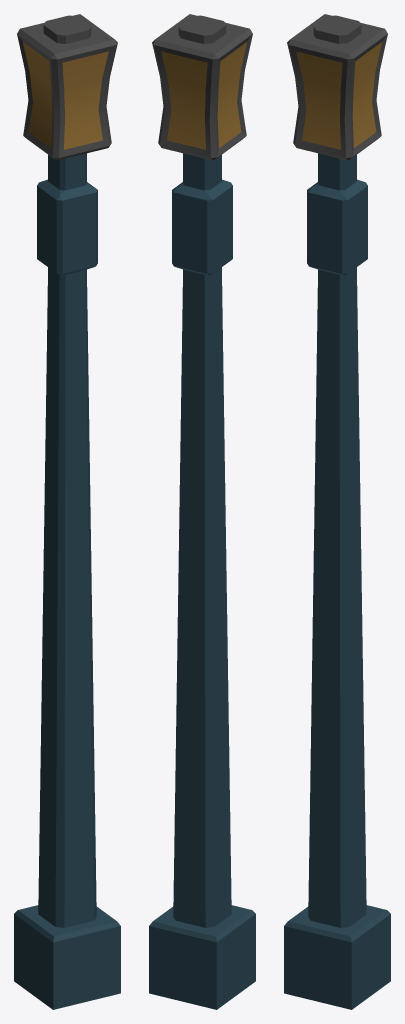
Rendered from streetlight_a006.glb.
The picture shows the model from 3 angles, left to right: view 1: azimuth 30°, elevation 25°; view 2: azimuth 150°, elevation 25°; view 3: azimuth 330°, elevation 25°; orthographic projection.
Parts seen in each view (by area): view 1: streetlight_a006; view 2: streetlight_a006; view 3: streetlight_a006.
Boxes of the visible parts, left/top/right/bottom form: streetlight_a006: left=14, top=14, right=120, bottom=1009; streetlight_a006: left=149, top=14, right=255, bottom=1009; streetlight_a006: left=284, top=14, right=390, bottom=1009.
Size of the model in its own units: 0.1425 by 1.93 by 0.1425.
Materials: 1 (1 with a texture image).
